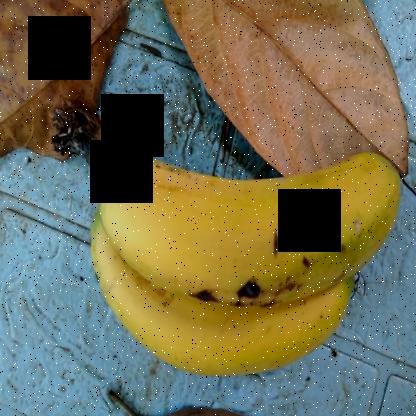ripe: (92, 126, 415, 317)
